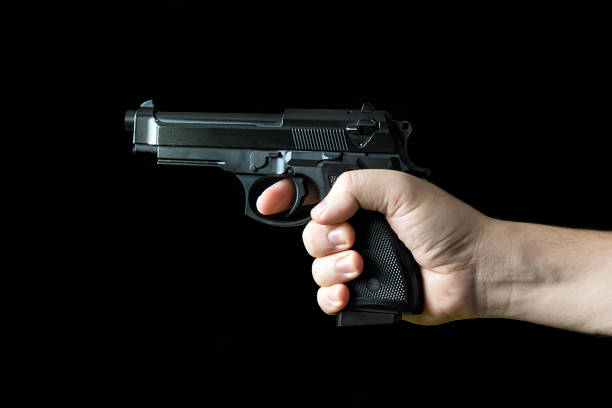gun: (123, 98, 425, 330)
